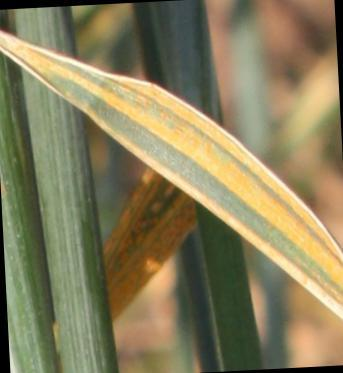Wheat: (64, 78, 343, 290)
